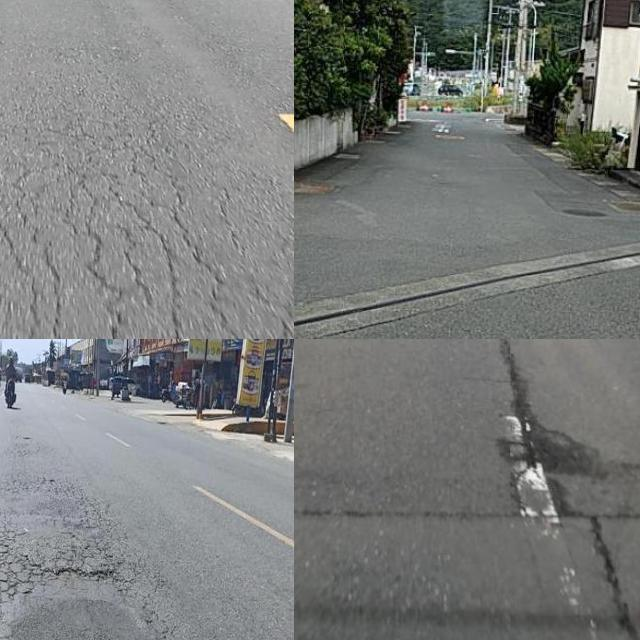Melintang: (294, 237, 640, 338), (294, 499, 603, 532)
Memanjang: (492, 339, 640, 640)
Retak Buaya: (0, 199, 267, 339)
